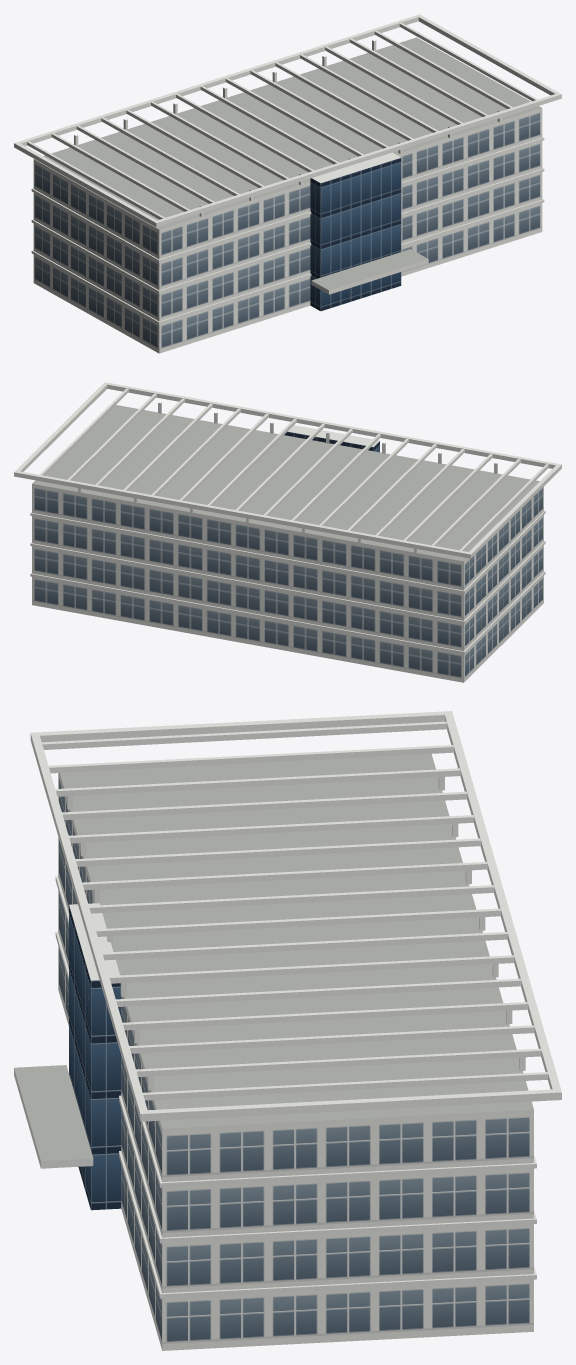
File: leidingxueyuan.glb
3 renders of one model, top to bottom at view 1: azimuth 30°, elevation 25°; view 2: azimuth 150°, elevation 25°; view 3: azimuth 270°, elevation 25°, orthographic. The views are drawn at different scales.
Visible parts, largest first — view 1: 雷丁学院; view 2: 雷丁学院; view 3: 雷丁学院.
Boxes of the visible parts, x1,y1,x2,y2 form: 雷丁学院: (14, 14, 561, 353); 雷丁学院: (14, 382, 561, 682); 雷丁学院: (14, 711, 561, 1350).
Size of the model in its own units: 68.51 by 19.7 by 39.36.
Materials: 4 (2 with a texture image).
